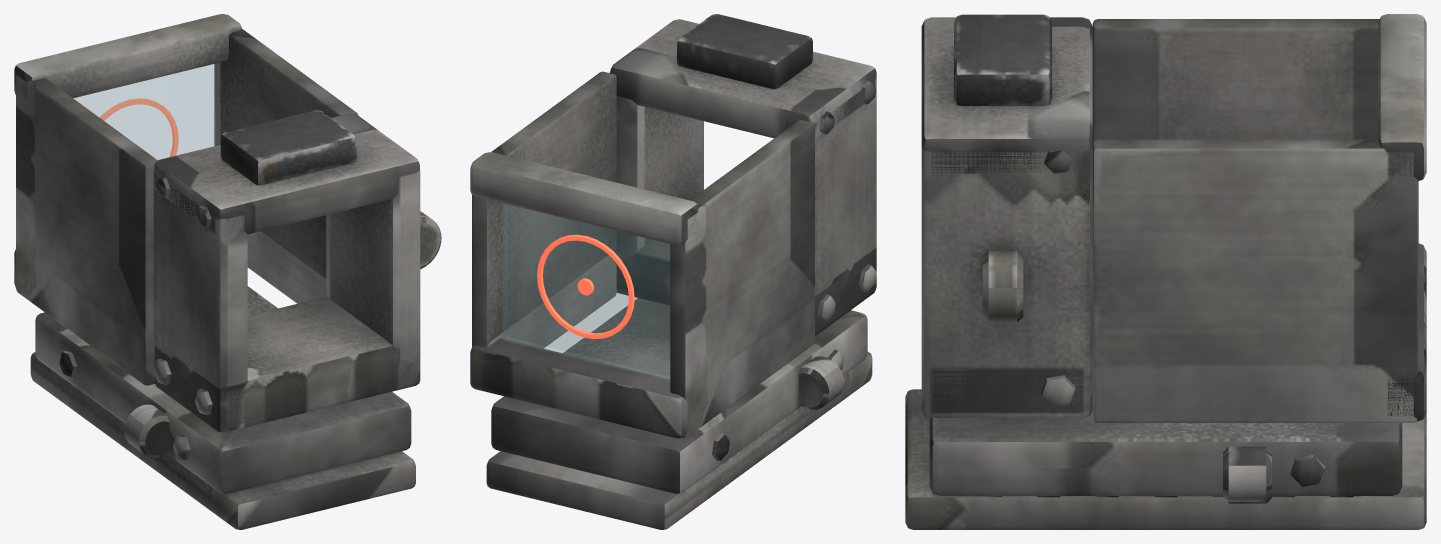
File: holo.glb
The picture shows the model from 3 angles, left to right: view 1: azimuth 30°, elevation 25°; view 2: azimuth 150°, elevation 25°; view 3: azimuth 270°, elevation 25°; orthographic projection. The views are drawn at different scales.
Visible parts, largest first — view 1: side_l, base, rear_l, rear_bottom, rear_top, rear_r, side_r, rail, front_top, holo_glass, emitter, clamp_bolt_l (+2 smaller); view 2: side_l, side_r, base, holo_glass, rear_top, front_bottom, rail, rear_l, front_top, rear_r, emitter, rear_bottom (+2 smaller); view 3: side_r, rear_r, side_l, base, rail, rear_top, emitter, front_top, dial, rear_bottom, clamp_bolt_r, front_bottom (+2 smaller).
Part boxes in pixels (x1,y1,x2,y2): side_l: [16, 75, 157, 385]; base: [35, 286, 411, 493]; rear_l: [153, 171, 247, 432]; rear_bottom: [155, 296, 416, 427]; rear_top: [154, 113, 419, 234]; rear_r: [326, 170, 420, 390]; side_r: [214, 29, 358, 303]; rail: [30, 352, 415, 529]; front_top: [14, 14, 242, 100]; holo_glass: [73, 63, 219, 159]; emitter: [220, 110, 356, 185]; clamp_bolt_l: [124, 404, 169, 457]; side_l: [670, 120, 814, 437]; side_r: [472, 71, 616, 348]; base: [491, 298, 867, 493]; holo_glass: [503, 203, 669, 380]; rear_top: [610, 19, 876, 139]; front_bottom: [470, 338, 695, 438]; rail: [486, 352, 872, 529]; rear_l: [786, 77, 876, 335]; front_top: [470, 152, 698, 245]; rear_r: [616, 96, 703, 295]; emitter: [677, 14, 812, 88]; rear_bottom: [616, 240, 872, 332]; side_r: [1092, 139, 1418, 422]; rear_r: [921, 148, 1092, 417]; side_l: [1092, 19, 1379, 143]; base: [929, 410, 1402, 495]; rail: [905, 389, 1426, 529]; rear_top: [921, 17, 1092, 172]; emitter: [954, 14, 1051, 105]; front_top: [1378, 14, 1426, 180]; dial: [982, 249, 1023, 322]; rear_bottom: [931, 368, 1082, 412]; clamp_bolt_r: [1223, 446, 1271, 503]; front_bottom: [1387, 243, 1426, 421].
Bounding box in the file's own units: 0.048 × 0.059 × 0.064.
Materials: 3 (1 with a texture image).
